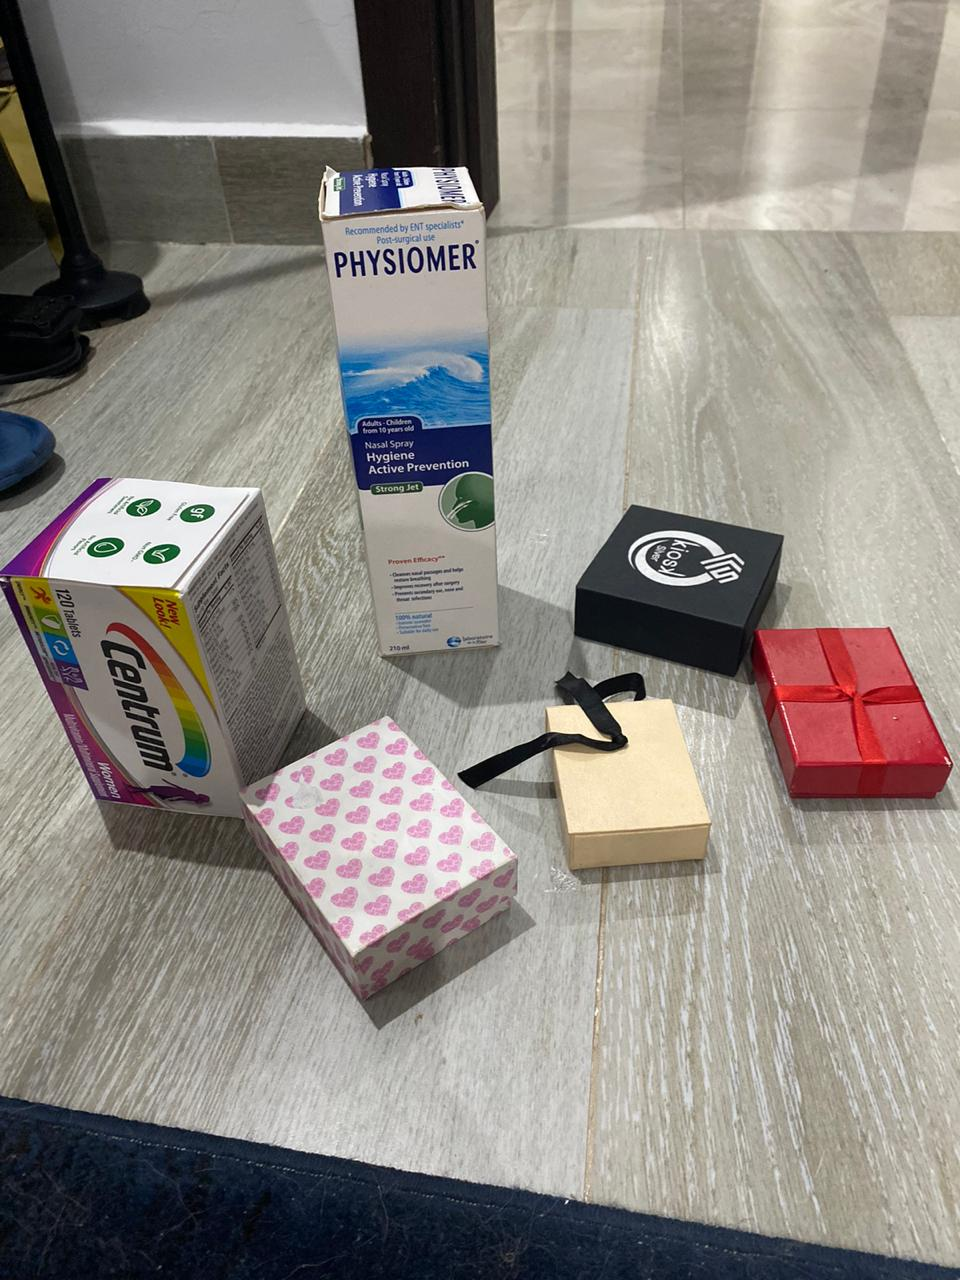Black Box: (753, 623, 957, 809)
Centrum: (8, 474, 312, 833)
Physiomer: (319, 161, 519, 661)
Pink Box: (243, 713, 520, 1009)
Red Box: (575, 502, 788, 678)
Yellow Box: (547, 690, 714, 887)
